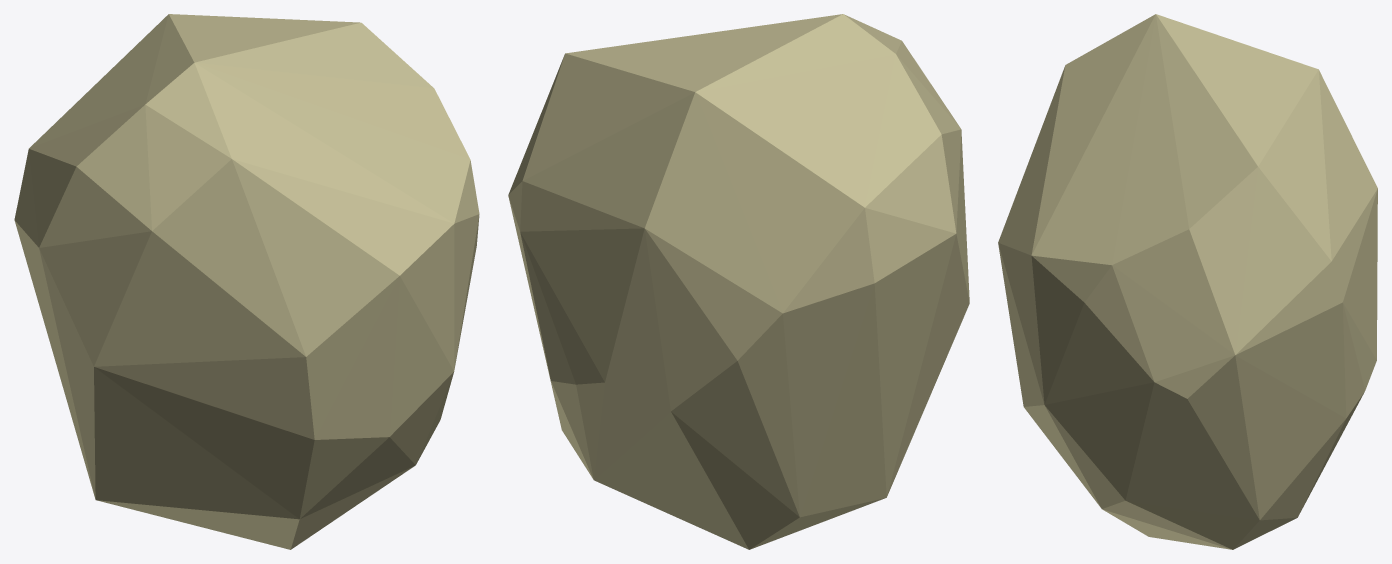
File: food_produce_mango_c01.glb
3 views of the same model, side by side, from view 1: azimuth 30°, elevation 25°; view 2: azimuth 150°, elevation 25°; view 3: azimuth 270°, elevation 25° (orthographic). The views are drawn at different scales.
Parts seen in each view (by area): view 1: geometry_0; view 2: geometry_0; view 3: geometry_0.
Boxes of the visible parts, left/top/right/bottom form: geometry_0: left=14, top=14, right=479, bottom=549; geometry_0: left=508, top=14, right=969, bottom=549; geometry_0: left=998, top=14, right=1377, bottom=549.
Bounding box in the file's own units: 0.384 × 0.4399 × 0.3154.
